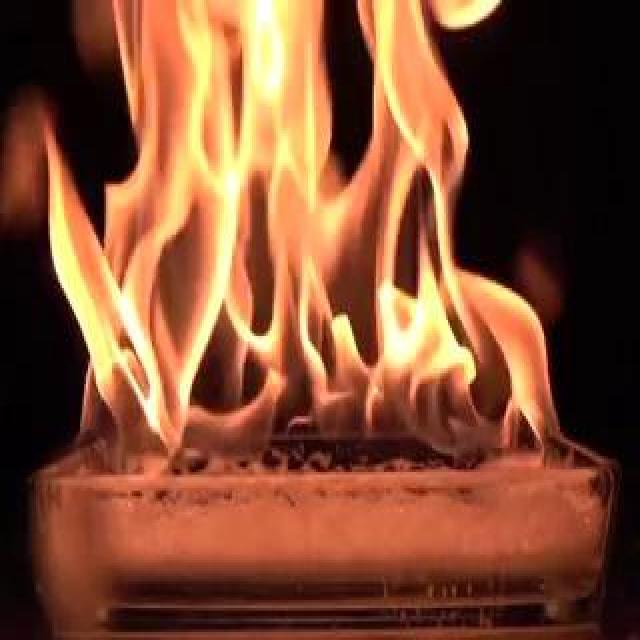Fire: (6, 2, 546, 482)
